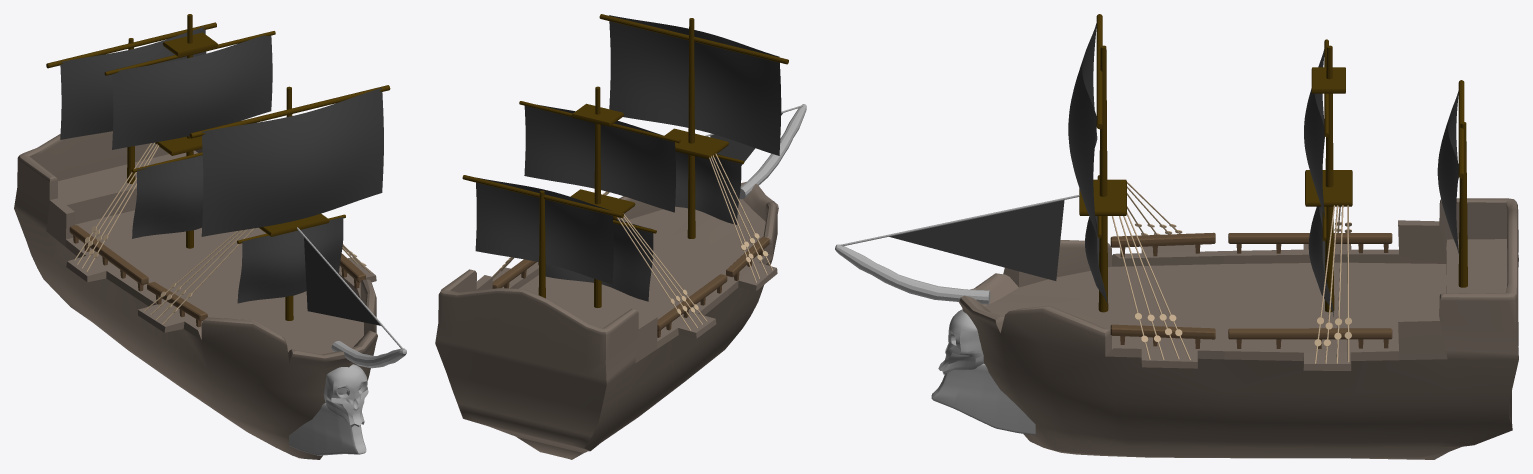
File: finalboss.fbx
The picture shows the model from 3 angles, left to right: view 1: azimuth 30°, elevation 25°; view 2: azimuth 150°, elevation 25°; view 3: azimuth 270°, elevation 25°; orthographic projection. The views are drawn at different scales.
Visible parts, largest first — view 1: polySurface11, pCube13, pCylinder113, pCylinder112, pCube30, pasted__pCylinder119; view 2: pCube13, polySurface11, pCylinder113, pasted__pCylinder119, pCube30, pCylinder112; view 3: pCube13, polySurface11, pCylinder113, pCylinder112, pCube30, pasted__pCylinder119.
Boxes of the visible parts, x1,y1,x2,y2 form: polySurface11: [60, 27, 383, 325]; pCube13: [14, 131, 377, 459]; pCylinder113: [46, 14, 390, 320]; pCylinder112: [289, 227, 406, 455]; pCube30: [69, 225, 365, 327]; pasted__pCylinder119: [74, 142, 371, 324]; pCube13: [435, 181, 778, 459]; polySurface11: [475, 15, 782, 301]; pCylinder113: [462, 14, 788, 307]; pasted__pCylinder119: [492, 153, 772, 330]; pCube30: [492, 236, 769, 337]; pCylinder112: [705, 104, 806, 199]; pCube13: [959, 198, 1518, 459]; polySurface11: [889, 20, 1459, 316]; pCylinder113: [1079, 14, 1467, 312]; pCylinder112: [835, 194, 1079, 434]; pCube30: [1110, 232, 1392, 348]; pasted__pCylinder119: [1112, 182, 1351, 363].
Size of the model in its own units: 6.4 by 9.85 by 14.83.
